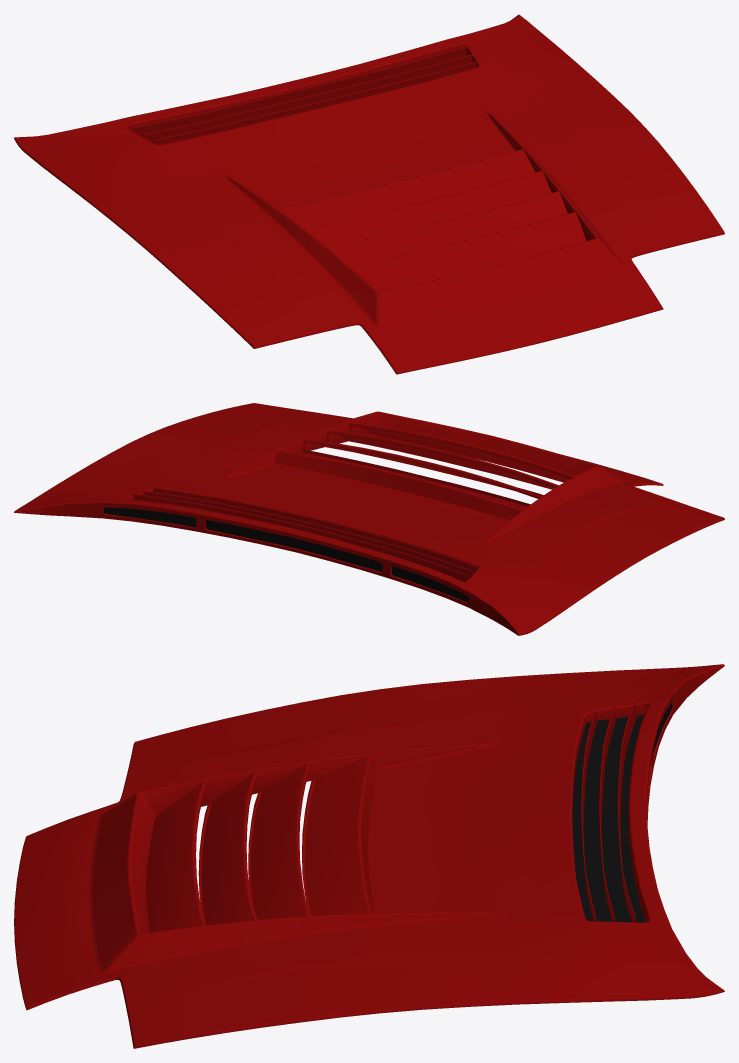
The model's file is bonnet_dmax.glb.
3 renders of one model, top to bottom at view 1: azimuth 30°, elevation 25°; view 2: azimuth 150°, elevation 25°; view 3: azimuth 270°, elevation 25°, orthographic. The views are drawn at different scales.
Parts seen in each view (by area): view 1: Bonnet; view 2: Bonnet, Cover; view 3: Bonnet, Cover.
Boxes of the visible parts, x1,y1,x2,y2 form: Bonnet: (14,14,724,374); Bonnet: (14,403,724,635); Cover: (103,507,468,602); Bonnet: (14,664,724,1048); Cover: (572,702,672,922).
Bounding box in the file's own units: 1.45 × 0.2474 × 1.33.
